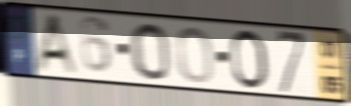6: (79, 13, 114, 81)
7: (276, 29, 309, 96)
A: (33, 12, 82, 79)
O: (229, 27, 271, 92), (128, 21, 172, 82), (175, 25, 215, 85)
